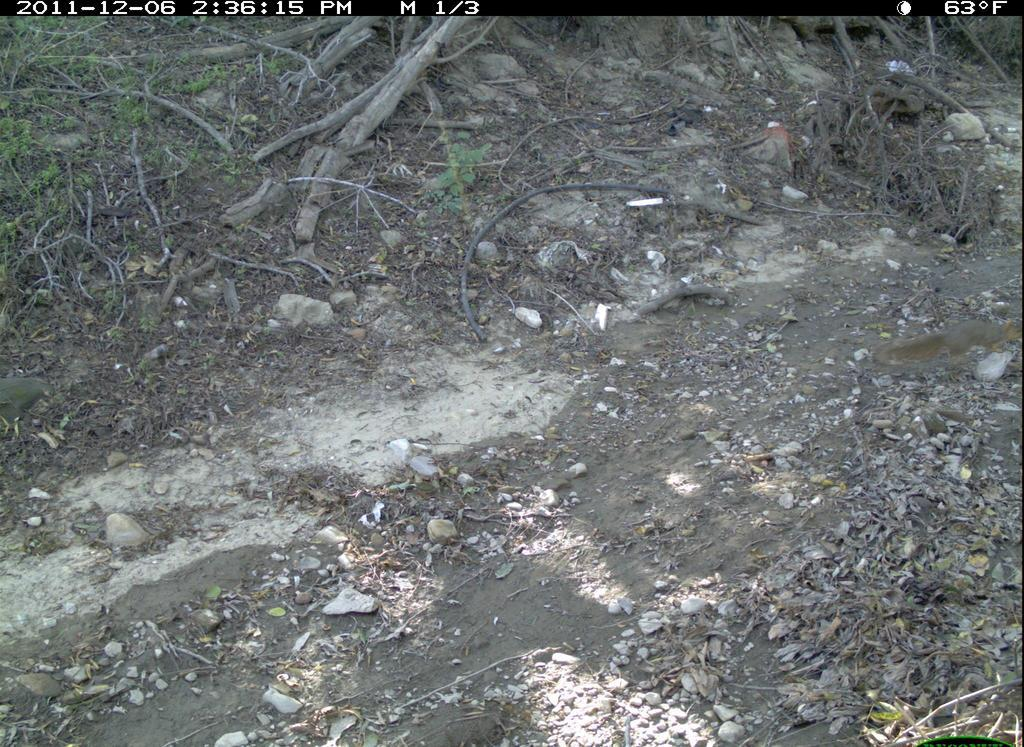squirrel: (867, 297, 1023, 376)
